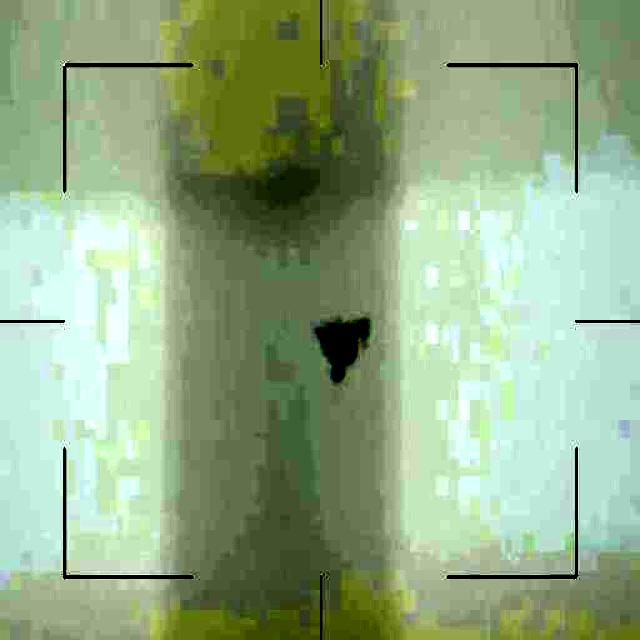bird: (311, 314, 380, 378)
